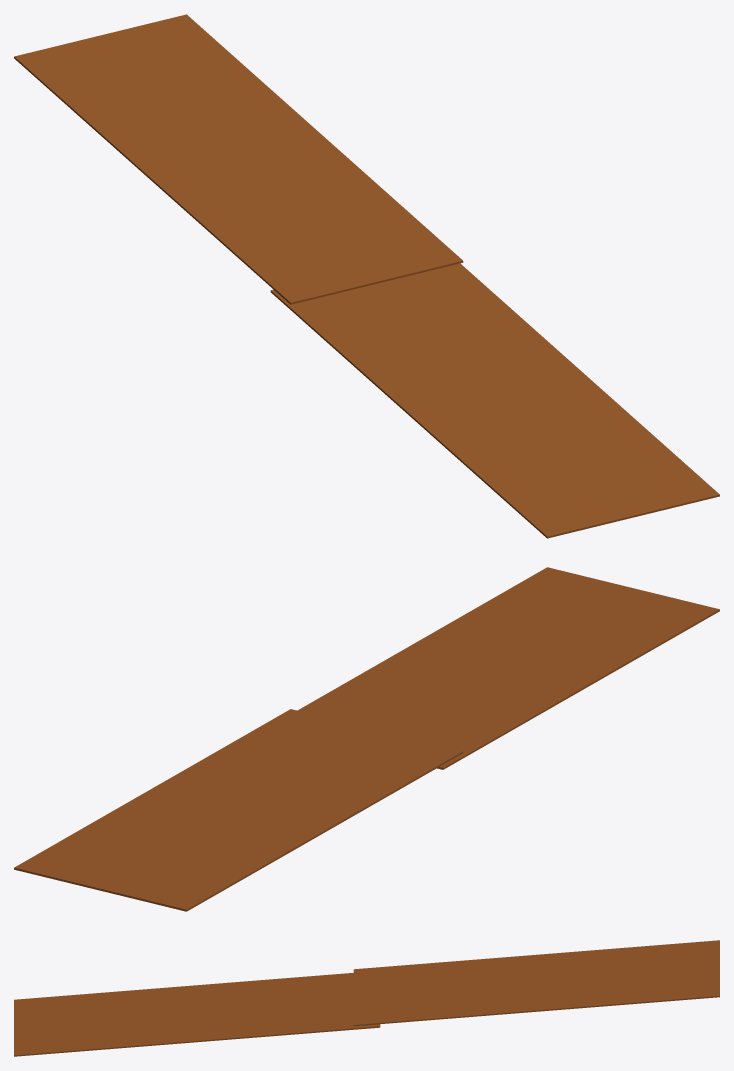
Rendered from dachglas_repeat.FBX.
The picture shows the model from 3 angles, top to bottom: view 1: azimuth 30°, elevation 25°; view 2: azimuth 150°, elevation 25°; view 3: azimuth 270°, elevation 25°; orthographic projection. The views are drawn at different scales.
Visible parts, largest first — view 1: dachglas_repeat; view 2: dachglas_repeat; view 3: dachglas_repeat.
Boxes of the visible parts, x1=… form: dachglas_repeat: x1=14, y1=14, x2=719, y2=538; dachglas_repeat: x1=14, y1=567, x2=719, y2=911; dachglas_repeat: x1=14, y1=940, x2=719, y2=1056.
Size of the model in its own units: 7.5 by 3.81 by 40.13.
